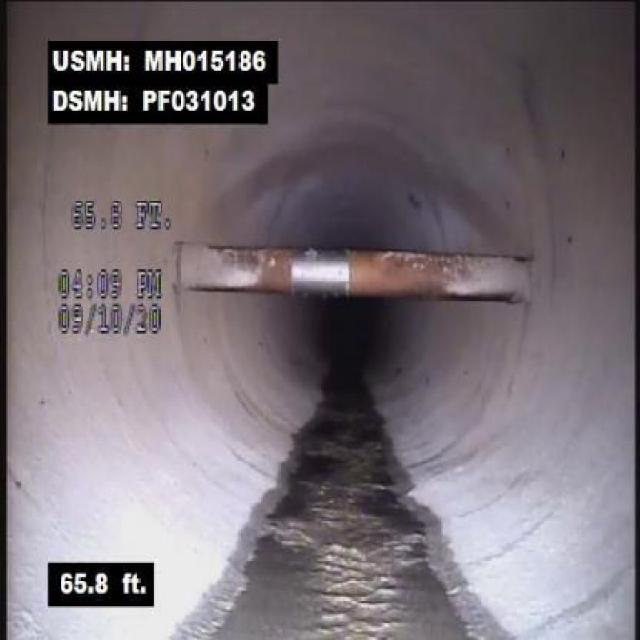Crack: (544, 206, 574, 348)
Utility intrusion: (169, 220, 546, 358)
